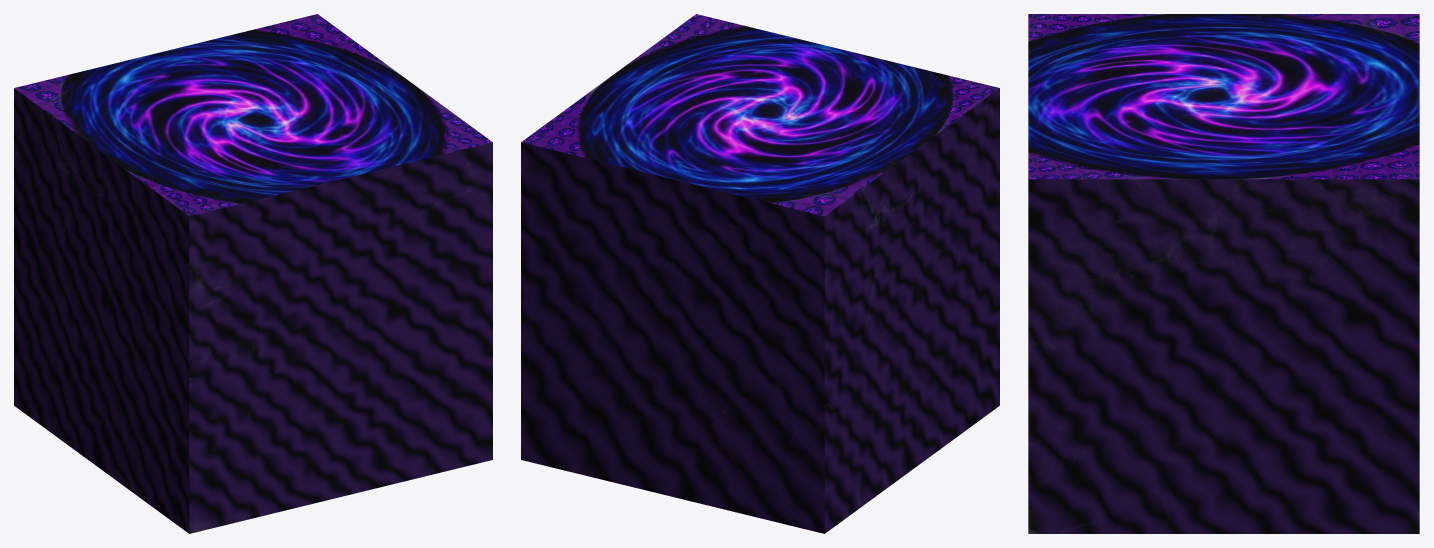
The model's file is teleport.glb.
3 views of the same model, side by side, from view 1: azimuth 30°, elevation 25°; view 2: azimuth 150°, elevation 25°; view 3: azimuth 270°, elevation 25° (orthographic). The views are drawn at different scales.
Parts seen in each view (by area): view 1: Block_Grass; view 2: Block_Grass; view 3: Block_Grass.
Boxes of the visible parts, x1,y1,x2,y2 form: Block_Grass: (14, 14, 492, 533); Block_Grass: (521, 14, 999, 533); Block_Grass: (1028, 14, 1419, 533).
Size of the model in its own units: 2 by 2 by 2.
1 material, 1 textured.
